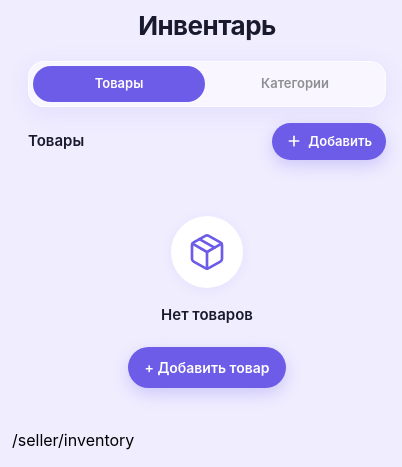
InventoryView — секции › «+» в «Товарах» ведёт прямо в создание товара
Click the button "Добавить": (329, 141) 272,122 -> 386,160
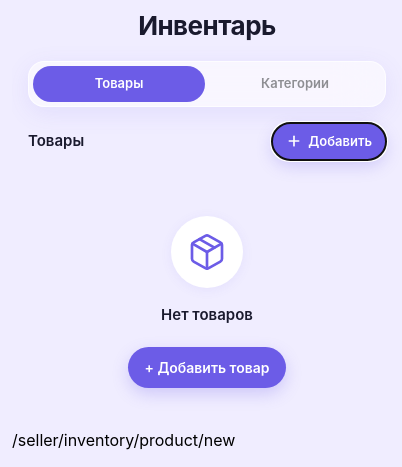
Check: the text with test id "location" reads "/seller/inventory/product/new", box 12,430 -> 235,450
